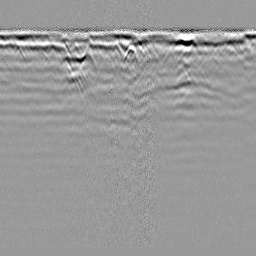cavity: (123, 43, 138, 63)
